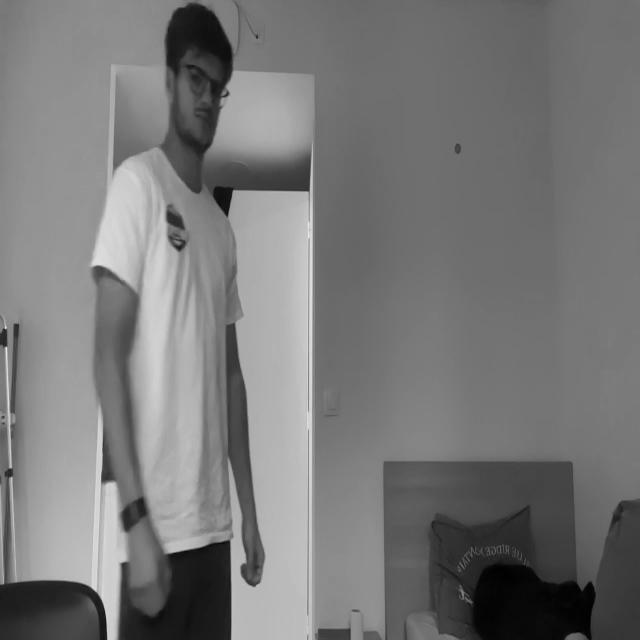elbow: (90, 343, 124, 397), (224, 363, 242, 408)
hand: (127, 512, 168, 614), (238, 512, 270, 586)
shoulder: (104, 161, 144, 250)
